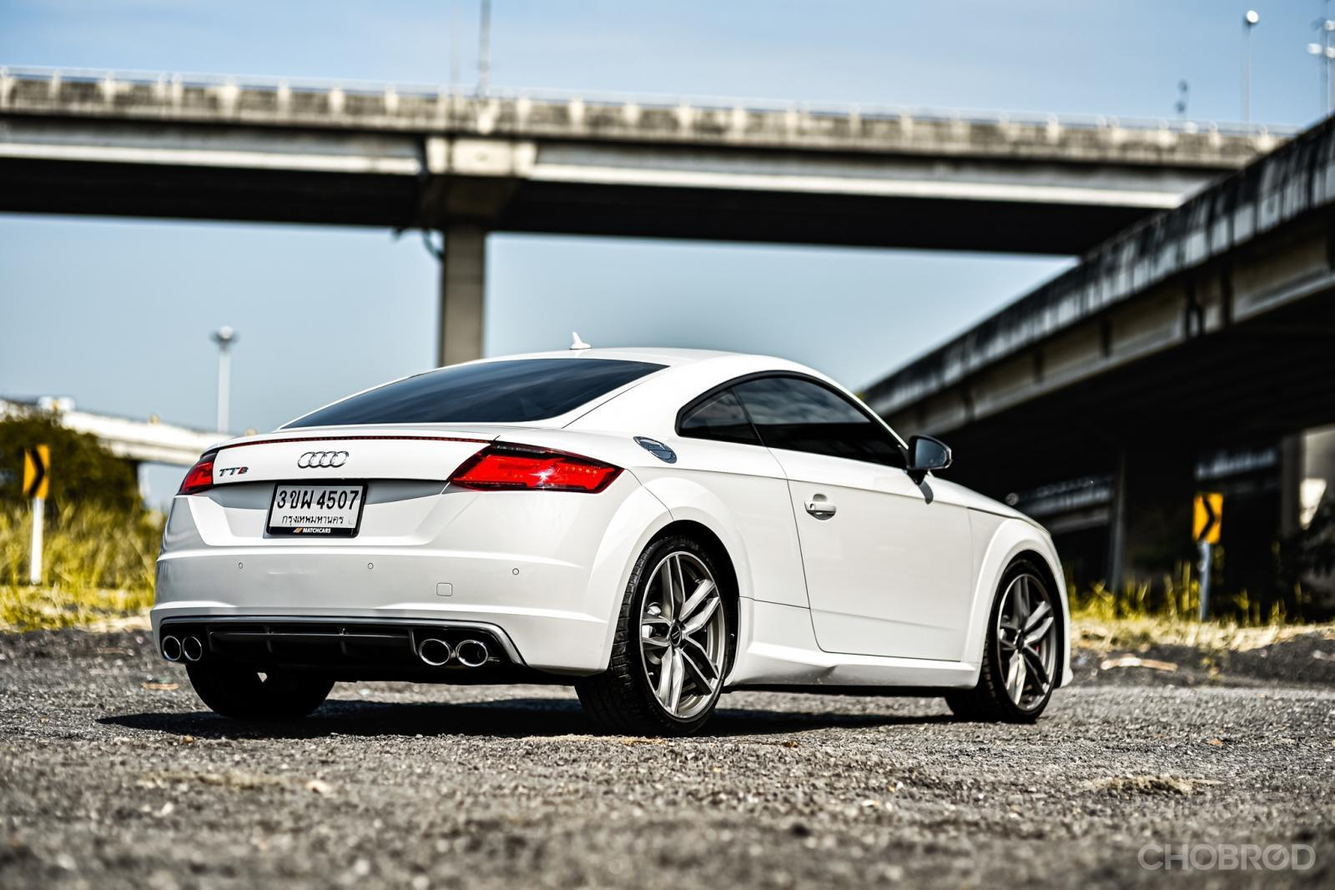license-plate: (262, 478, 370, 540)
